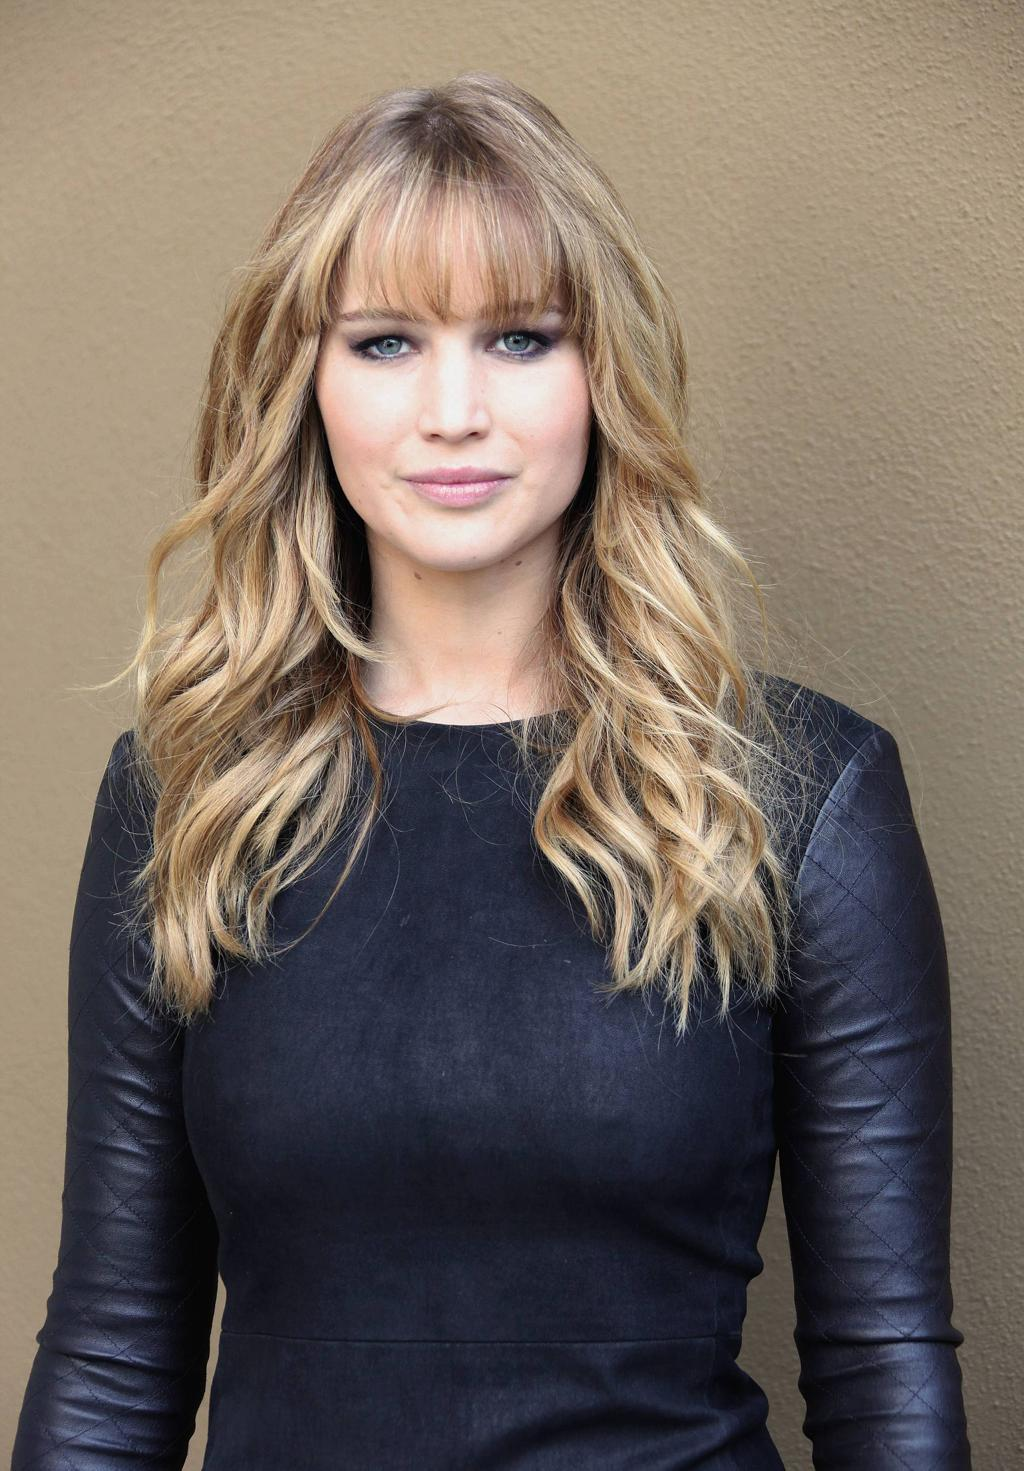face: (316, 224, 586, 571)
